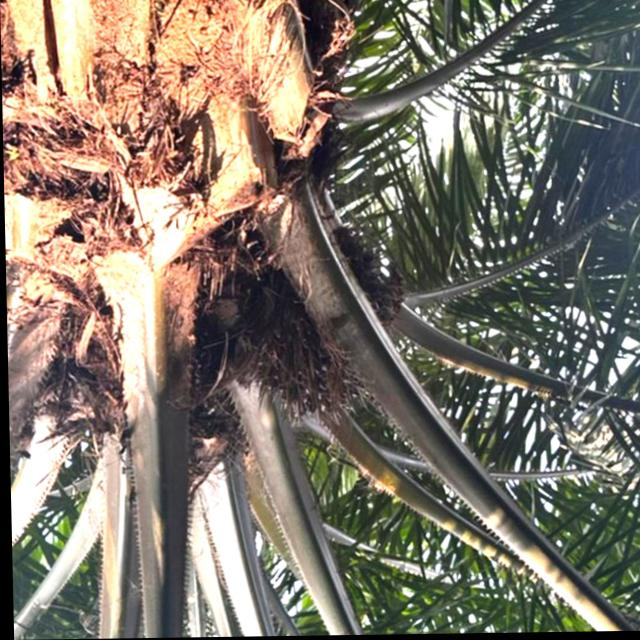ripe: (213, 248, 382, 438)
